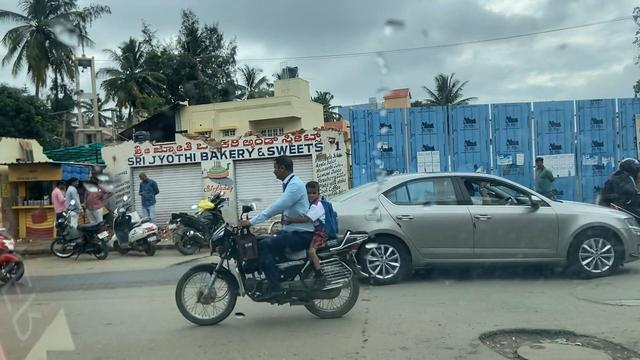LMV: (179, 159, 356, 330), (358, 172, 616, 272)
RoadDamages: (472, 326, 640, 360), (567, 290, 640, 323)
